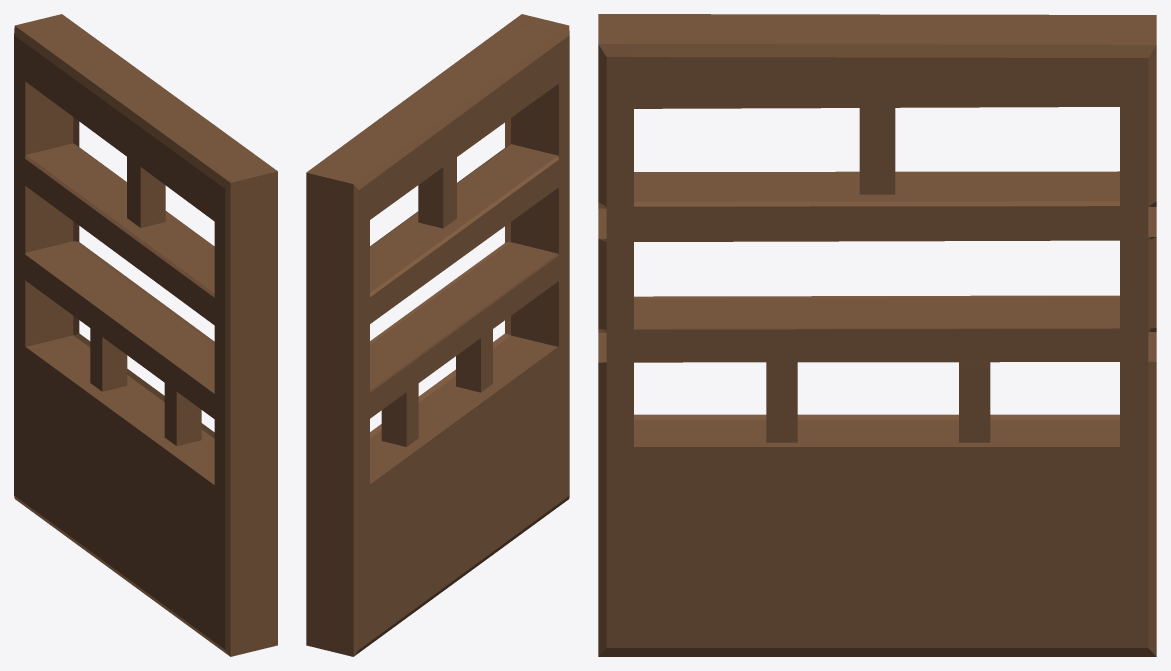
File: Shelve.fbx
The picture shows the model from 3 angles, left to right: view 1: azimuth 30°, elevation 25°; view 2: azimuth 150°, elevation 25°; view 3: azimuth 270°, elevation 25°; orthographic projection. The views are drawn at different scales.
Visible parts, largest first — view 1: Cube; view 2: Cube; view 3: Cube.
Part boxes in pixels (box(x1,y1,x2,y2)): Cube: box(14, 14, 277, 656); Cube: box(306, 14, 569, 656); Cube: box(598, 14, 1156, 656).
Bounding box in the file's own units: 143 × 1216 × 1004.
